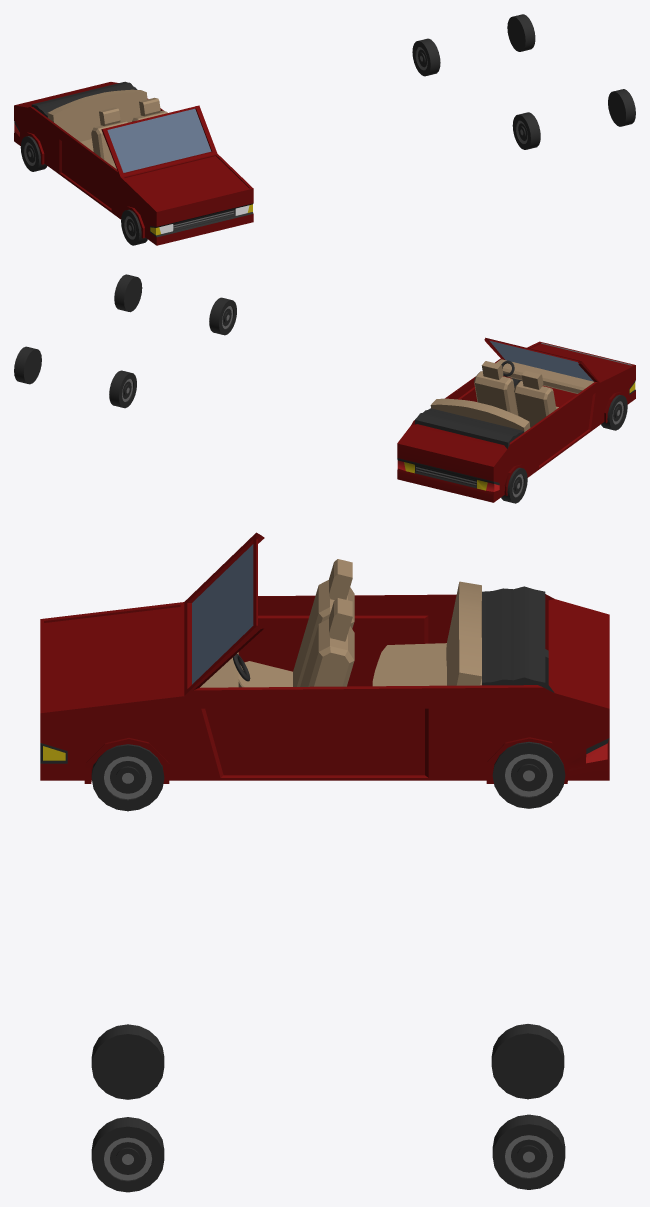
File: CarNoRoof.fbx
3 views of the same model, one above another, from view 1: azimuth 30°, elevation 25°; view 2: azimuth 150°, elevation 25°; view 3: azimuth 270°, elevation 25° (orthographic). The views are drawn at different scales.
Parts seen in each view (by area): view 1: carBody1, pCube15, pCylinder76, pCylinder73, pCylinder74, pCylinder75, pCube21, pCylinder34, pCylinder32, pCube17, pCube33; view 2: carBody1, pCube21, pCube15, pCube17, pCube32, pCube22, pCylinder75, pCylinder76, pCylinder74, pCylinder73, pCylinder34, pCylinder32; view 3: carBody1, pCube21, pCylinder73, pCylinder76, pCylinder75, pCylinder74, pCylinder36, pCylinder35, pCube15, pCube16, pCube32, pCube17 (+1 smaller).
Part boxes in pixels (x1=…): carBody1: x1=14, y1=82, x2=253, y2=245; pCube15: x1=47, y1=89, x2=147, y2=141; pCylinder76: x1=507, y1=14, x2=535, y2=51; pCylinder73: x1=512, y1=112, x2=540, y2=149; pCylinder74: x1=412, y1=38, x2=440, y2=76; pCylinder75: x1=608, y1=89, x2=635, y2=126; pCube21: x1=31, y1=81, x2=137, y2=117; pCylinder34: x1=121, y1=209, x2=147, y2=245; pCylinder32: x1=20, y1=136, x2=47, y2=171; pCube17: x1=91, y1=120, x2=127, y2=163; pCube33: x1=139, y1=97, x2=160, y2=116; carBody1: x1=397, y1=337, x2=635, y2=502; pCube21: x1=415, y1=408, x2=523, y2=448; pCube15: x1=430, y1=398, x2=530, y2=432; pCube17: x1=514, y1=381, x2=556, y2=427; pCube32: x1=474, y1=371, x2=517, y2=415; pCube22: x1=496, y1=359, x2=593, y2=393; pCylinder75: x1=114, y1=274, x2=142, y2=312; pCylinder76: x1=14, y1=346, x2=41, y2=384; pCylinder74: x1=109, y1=370, x2=136, y2=408; pCylinder73: x1=209, y1=297, x2=236, y2=335; pCylinder34: x1=601, y1=394, x2=627, y2=430; pCylinder32: x1=501, y1=467, x2=527, y2=503; carBody1: x1=40, y1=532, x2=609, y2=783; pCube21: x1=482, y1=586, x2=545, y2=687; pCylinder73: x1=91, y1=1024, x2=164, y2=1099; pCylinder76: x1=492, y1=1114, x2=565, y2=1189; pCylinder75: x1=91, y1=1117, x2=164, y2=1192; pCylinder74: x1=491, y1=1024, x2=564, y2=1099; pCylinder36: x1=91, y1=744, x2=164, y2=811; pCylinder35: x1=492, y1=741, x2=565, y2=808; pCube15: x1=446, y1=581, x2=481, y2=685; pCube16: x1=372, y1=643, x2=481, y2=686; pCube32: x1=300, y1=619, x2=354, y2=686; pCube17: x1=293, y1=580, x2=354, y2=686.
Size of the model in its own units: 49.57 by 8.66 by 24.67.
2 materials, 2 textured.
